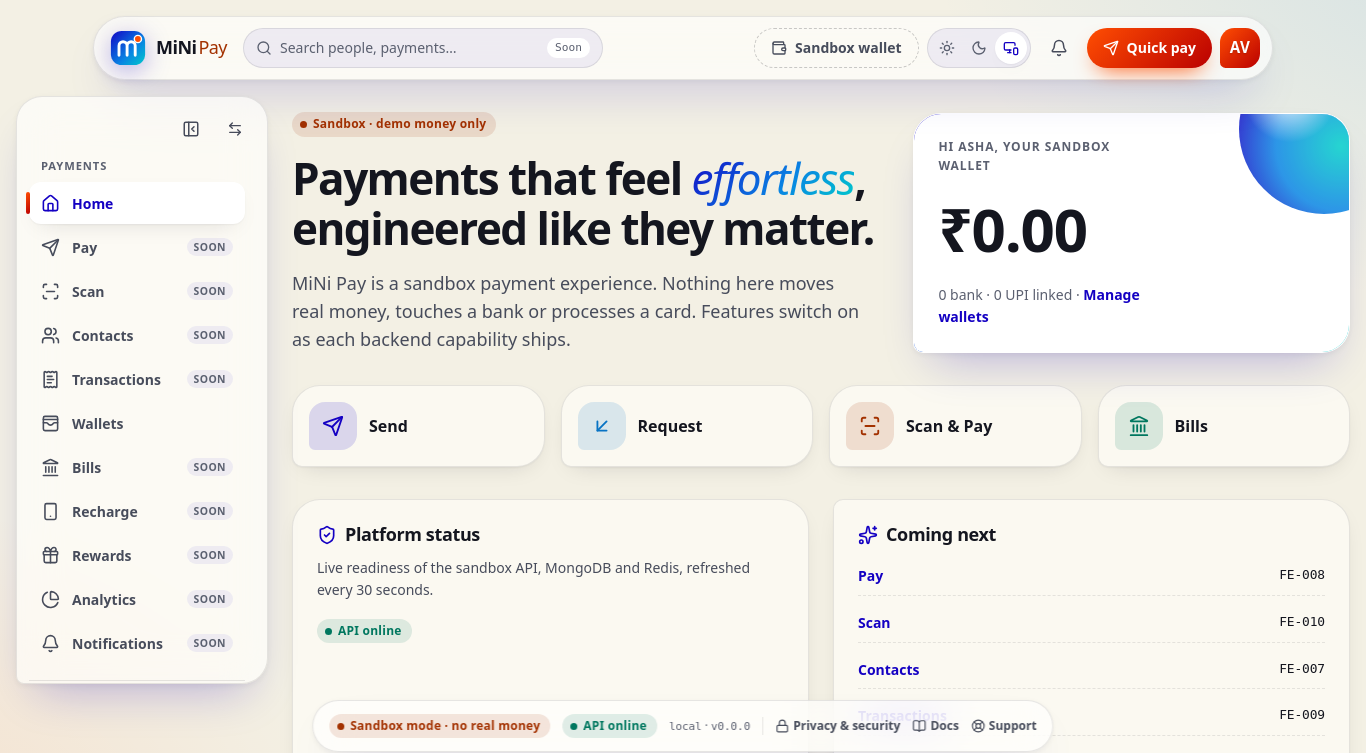
Test: app shell › navigates via the sidebar
Click the link "Rewards Soon". click: x=102, y=555
box: 41,546 -> 233,565
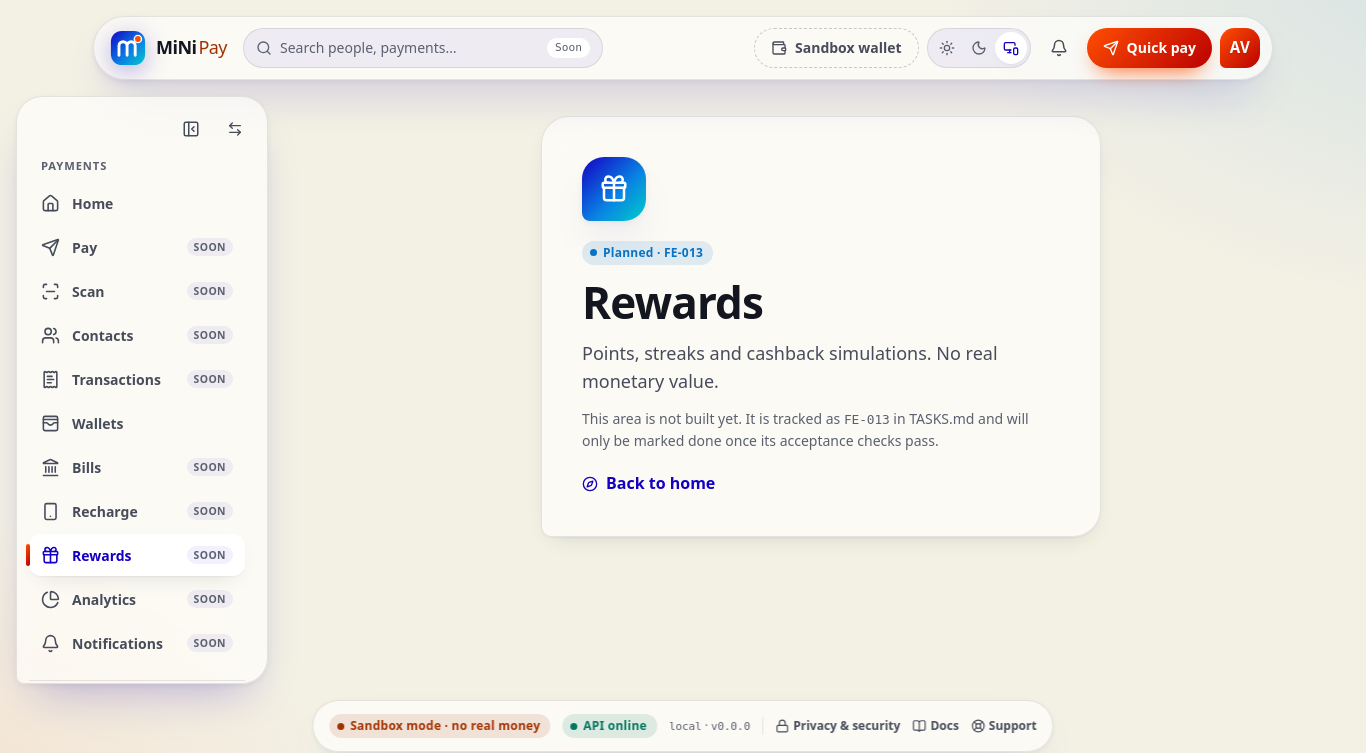
Expected: the heading "Rewards" is shown, 582,277 -> 763,328
